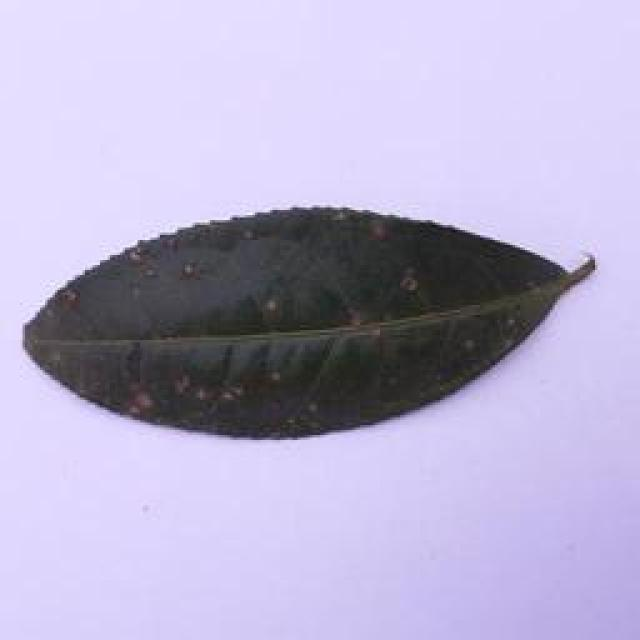Algal Leaf Spot: (18, 189, 606, 463)
